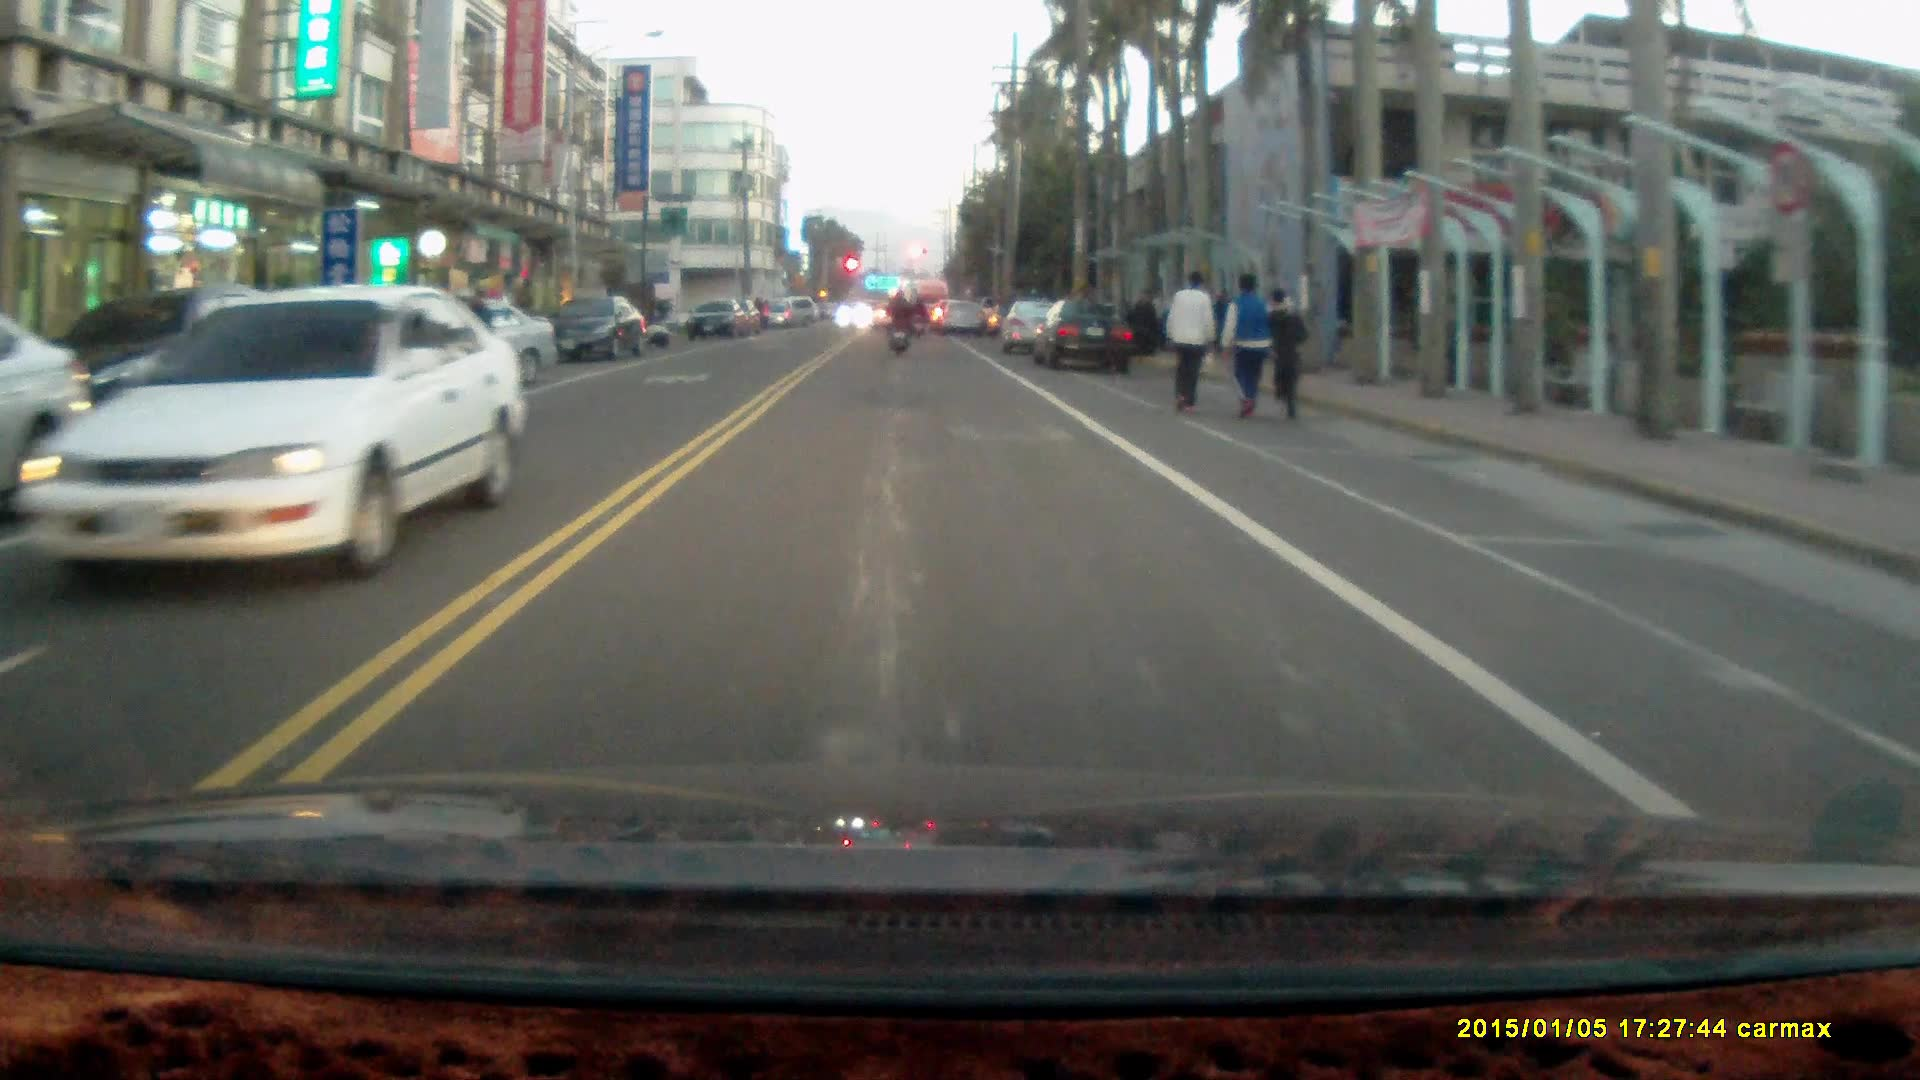pedestrian: (1219, 267, 1271, 420), (1162, 267, 1214, 418), (1262, 284, 1307, 424)
rider: (884, 285, 915, 356)
vehicle: (34, 286, 513, 588), (1038, 298, 1137, 374), (546, 294, 644, 366), (1002, 300, 1089, 360), (686, 298, 750, 341)
